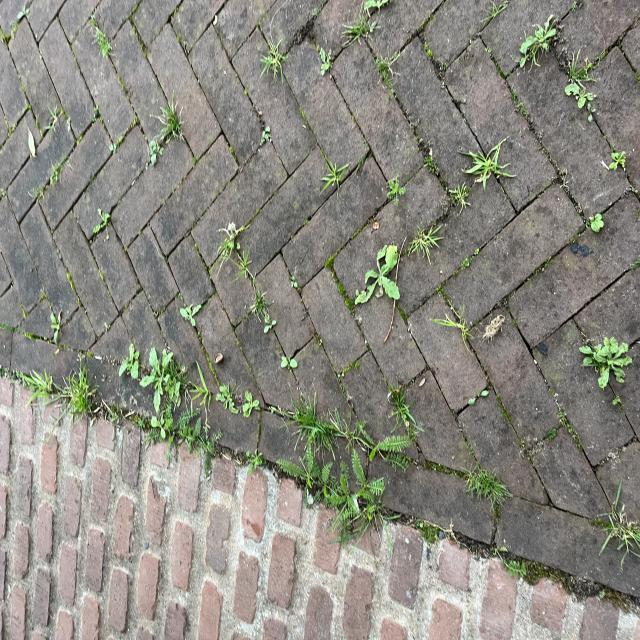pavement: (5, 8, 192, 640), (335, 121, 496, 278)
weed: (116, 280, 185, 388)
weedling: (170, 135, 225, 223)
